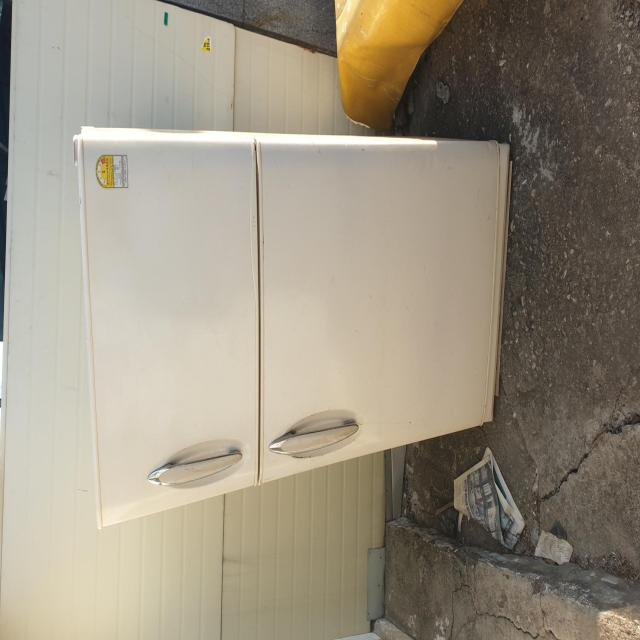refrigerator: (73, 124, 514, 532)
